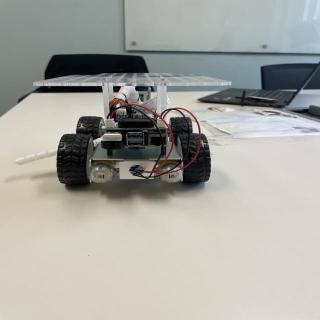vehicle: (53, 79, 231, 192)
